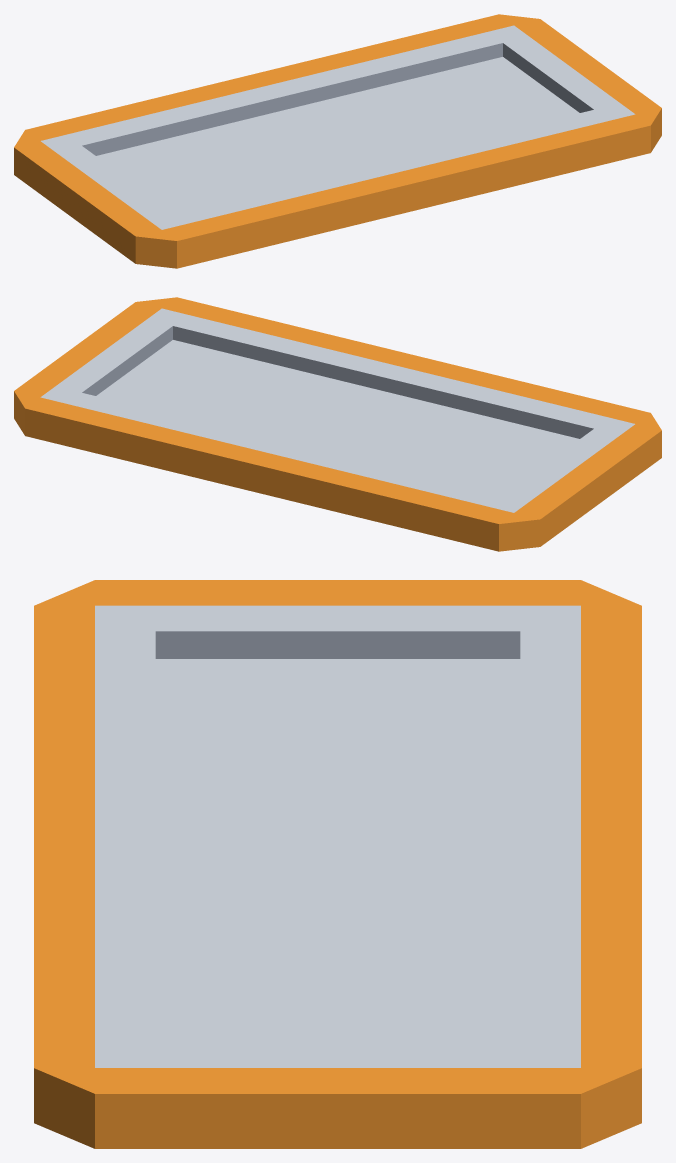
Rendered from platform_long.glb.
3 renders of one model, top to bottom at view 1: azimuth 30°, elevation 25°; view 2: azimuth 150°, elevation 25°; view 3: azimuth 270°, elevation 25°, orthographic. The views are drawn at different scales.
Visible parts, largest first — view 1: platform_long; view 2: platform_long; view 3: platform_long.
Boxes of the visible parts, left/top/right/bottom form: platform_long: left=14, top=14, right=661, bottom=268; platform_long: left=14, top=297, right=661, bottom=551; platform_long: left=34, top=580, right=641, bottom=1148.
Size of the model in its own units: 2 by 0.1 by 1.
